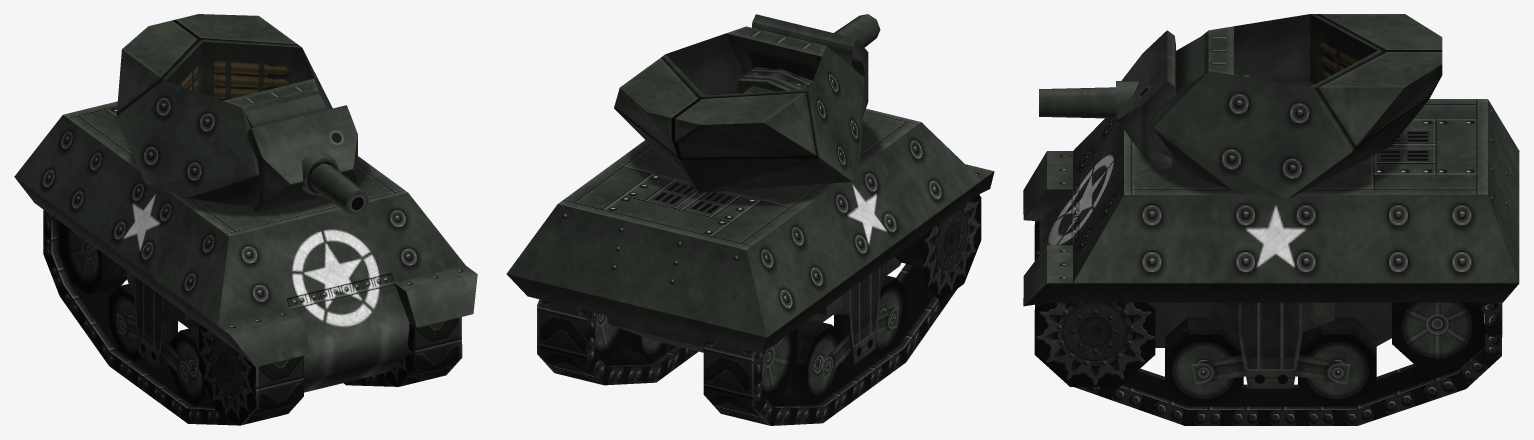
The model's file is M10_SD_Model_Track.FBX.
3 renders of one model, left to right at view 1: azimuth 30°, elevation 25°; view 2: azimuth 150°, elevation 25°; view 3: azimuth 270°, elevation 25°, orthographic. The views are drawn at different scales.
Visible parts, largest first — view 1: Body, Turret, RightTrack, Cannon, LeftTrack; view 2: Body, Turret, RightTrack, LeftTrack, Cannon; view 3: Body, LeftTrack, Turret, Cannon.
Part boxes in pixels (x1,y1,x2,y2): Body: [14, 101, 477, 392]; Turret: [116, 14, 332, 205]; RightTrack: [43, 210, 303, 425]; Cannon: [247, 105, 368, 214]; LeftTrack: [343, 317, 462, 386]; Body: [506, 108, 994, 353]; Turret: [614, 26, 864, 192]; RightTrack: [703, 195, 981, 425]; LeftTrack: [537, 299, 697, 385]; Cannon: [738, 14, 880, 116]; Body: [1023, 99, 1519, 347]; LeftTrack: [1034, 302, 1502, 425]; Turret: [1150, 14, 1442, 199]; Cannon: [1039, 30, 1249, 169].
Bounding box in the file's own units: 1.07 × 1.21 × 1.7.
2 materials, 2 textured.
